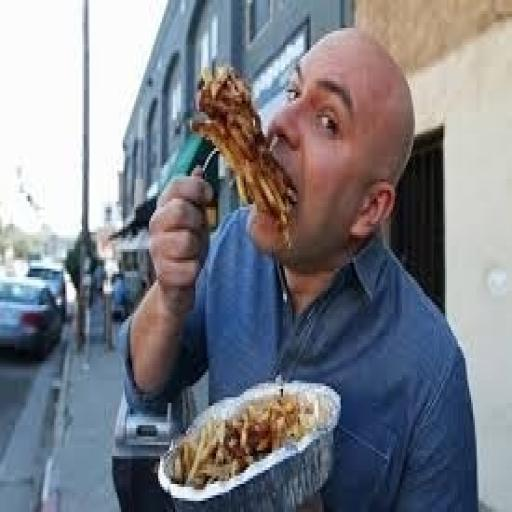eating: (114, 22, 480, 506)
